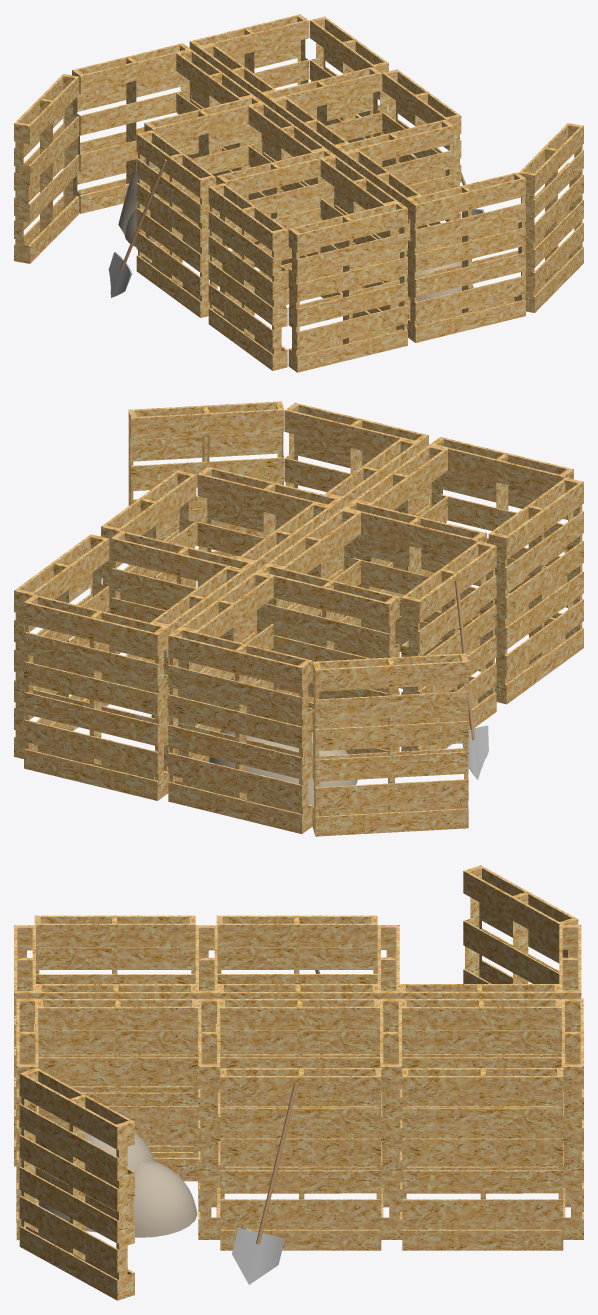
The model's file is compostboxes.gltf.
3 views of the same model, one above another, from view 1: azimuth 30°, elevation 25°; view 2: azimuth 150°, elevation 25°; view 3: azimuth 270°, elevation 25° (orthographic). The views are drawn at different scales.
Parts seen in each view (by area): view 1: compostboxes; view 2: compostboxes; view 3: compostboxes.
Boxes of the visible parts, x1,y1,x2,y2 form: compostboxes: (14, 14, 583, 372); compostboxes: (14, 401, 583, 836); compostboxes: (14, 865, 583, 1300).
Bounding box in the file's own units: 393 × 130 × 362.
Materials: 4 (1 with a texture image).
